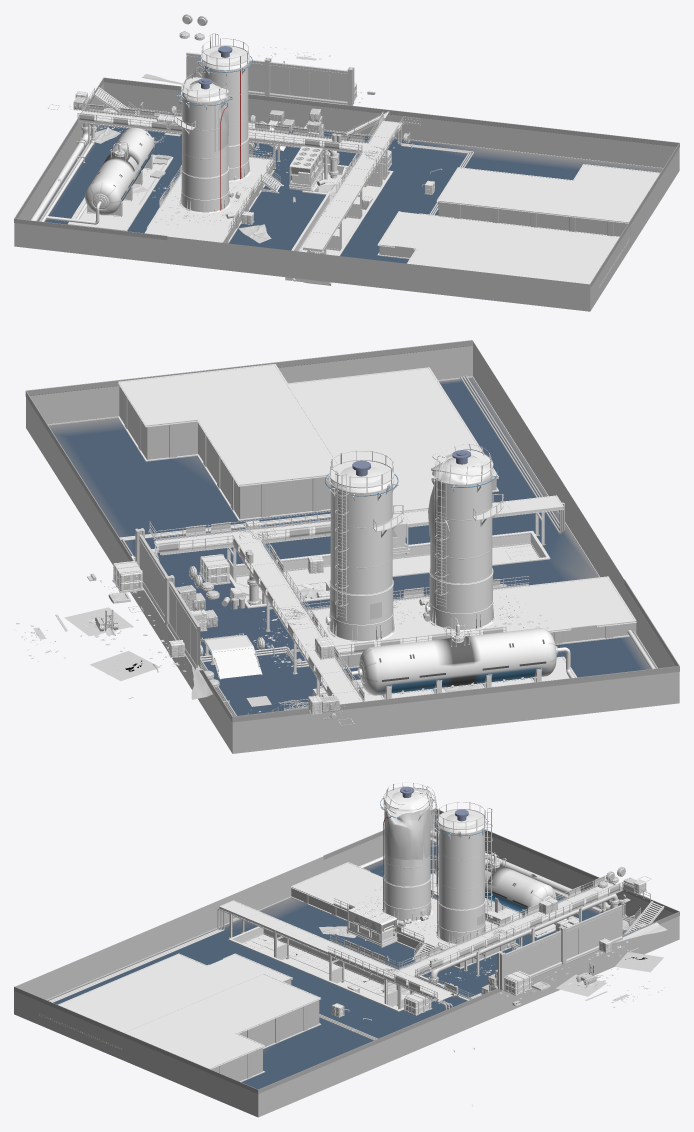
The model's file is cell_165_105.fbx.
3 views of the same model, one above another, from view 1: azimuth 30°, elevation 25°; view 2: azimuth 150°, elevation 25°; view 3: azimuth 270°, elevation 25° (orthographic). The views are drawn at different scales.
Parts seen in each view (by area): view 1: SM_I_RoadFacility_Ground_L_04H.mo, SM_H_Industrial_Mechanical_MetalSilo_03_Ruin_a.mo, SM_I_RoadFacility_Ground_L_08.mo, SM_H_Industrial_Mechanical_MetalSilo_03c.mo, SM_H_Industrial_Mechanical_MetalSilo_02c.mo, SM_H_Fence_SoundproofWall_02.mo.031, SM_I_RoadFacility_Ground_L_17_Ruin.mo, SM_H_FutureTech_Electrical_BigConditioners_01.mo.013, SM_H_Fence_SoundproofWall_02.mo.018, SM_I_RoadFacility_Ground_L_18.mo, SM_H_Industrial_Mechanical_MetalSilo_03_Ruin_a_Decal.mo; view 2: SM_I_RoadFacility_Ground_L_04H.mo, SM_H_Industrial_Mechanical_MetalSilo_03c.mo, SM_H_Industrial_Mechanical_MetalSilo_03_Ruin_a.mo, SM_I_RoadFacility_Ground_L_08.mo, SM_H_Industrial_Mechanical_MetalSilo_02c.mo, SM_I_RoadFacility_Ground_L_18.mo, SM_H_Fence_SoundproofWall_02.mo.018, SM_H_Fence_SoundproofWall_02.mo.031, SM_DECOR_GrassDebris_Less_01_HD.mo.1868, SM_H_Industrial_Container_SupplyBox_01.mo.071, SM_DECOR_GrassDebris_Less_01_HD.mo.1872, SM_H_Industrial_Container_SupplyBox_01.mo.068 (+2 smaller); view 3: SM_I_RoadFacility_Ground_L_04H.mo, SM_I_RoadFacility_Ground_L_08.mo, SM_H_Industrial_Mechanical_MetalSilo_03c.mo, SM_H_Industrial_Mechanical_MetalSilo_03_Ruin_a.mo, SM_H_Industrial_Mechanical_MetalSilo_02c.mo, SM_H_Fence_SoundproofWall_02.mo.018, SM_H_Industrial_Mechanical_MetalSilo_03_Ruin_a_Decal.mo, SM_H_Fence_SoundproofWall_02.mo.031, SM_I_RoadFacility_Ground_L_17_Ruin.mo, SM_I_RoadFacility_Ground_L_18.mo, SM_H_FutureTech_Electrical_BigConditioners_01.mo.013, SM_DECOR_GrassDebris_Less_01_HD.mo.1868 (+2 smaller).
Part boxes in pixels (x1,y1,x2,y2): SM_I_RoadFacility_Ground_L_04H.mo: (14, 77, 679, 311); SM_H_Industrial_Mechanical_MetalSilo_03_Ruin_a.mo: (173, 66, 232, 213); SM_I_RoadFacility_Ground_L_08.mo: (77, 111, 404, 254); SM_H_Industrial_Mechanical_MetalSilo_03c.mo: (194, 33, 253, 181); SM_H_Industrial_Mechanical_MetalSilo_02c.mo: (85, 128, 154, 216); SM_H_Fence_SoundproofWall_02.mo.031: (270, 62, 354, 105); SM_I_RoadFacility_Ground_L_17_Ruin.mo: (30, 108, 337, 285); SM_H_FutureTech_Electrical_BigConditioners_01.mo.013: (289, 146, 323, 191); SM_H_Fence_SoundproofWall_02.mo.018: (186, 52, 271, 96); SM_I_RoadFacility_Ground_L_18.mo: (39, 108, 473, 253); SM_H_Industrial_Mechanical_MetalSilo_03_Ruin_a_Decal.mo: (214, 102, 228, 152); SM_I_RoadFacility_Ground_L_04H.mo: (25, 340, 679, 753); SM_H_Industrial_Mechanical_MetalSilo_03c.mo: (325, 450, 403, 642); SM_H_Industrial_Mechanical_MetalSilo_03_Ruin_a.mo: (425, 443, 503, 631); SM_I_RoadFacility_Ground_L_08.mo: (154, 495, 563, 704); SM_H_Industrial_Mechanical_MetalSilo_02c.mo: (357, 617, 558, 699); SM_I_RoadFacility_Ground_L_18.mo: (119, 375, 657, 716); SM_H_Fence_SoundproofWall_02.mo.018: (165, 575, 202, 670); SM_H_Fence_SoundproofWall_02.mo.031: (135, 528, 167, 622); SM_DECOR_GrassDebris_Less_01_HD.mo.1868: (90, 651, 160, 681); SM_H_Industrial_Container_SupplyBox_01.mo.071: (112, 561, 143, 592); SM_DECOR_GrassDebris_Less_01_HD.mo.1872: (64, 607, 133, 636); SM_H_Industrial_Container_SupplyBox_01.mo.068: (199, 554, 230, 585); SM_I_RoadFacility_Ground_L_04H.mo: (14, 808, 679, 1117); SM_I_RoadFacility_Ground_L_08.mo: (219, 882, 623, 1009); SM_H_Industrial_Mechanical_MetalSilo_03c.mo: (434, 802, 492, 945); SM_H_Industrial_Mechanical_MetalSilo_03_Ruin_a.mo: (380, 782, 438, 922); SM_H_Industrial_Mechanical_MetalSilo_02c.mo: (434, 852, 556, 917); SM_H_Fence_SoundproofWall_02.mo.018: (558, 905, 622, 964); SM_H_Industrial_Mechanical_MetalSilo_03_Ruin_a_Decal.mo: (384, 805, 430, 859); SM_H_Fence_SoundproofWall_02.mo.031: (497, 930, 562, 990); SM_I_RoadFacility_Ground_L_17_Ruin.mo: (289, 831, 617, 992); SM_I_RoadFacility_Ground_L_18.mo: (49, 837, 641, 1040); SM_H_FutureTech_Electrical_BigConditioners_01.mo.013: (346, 904, 397, 947); SM_DECOR_GrassDebris_Less_01_HD.mo.1868: (615, 952, 663, 972).
Bounding box in the file's own units: 85.82 × 30.85 × 85.78.
